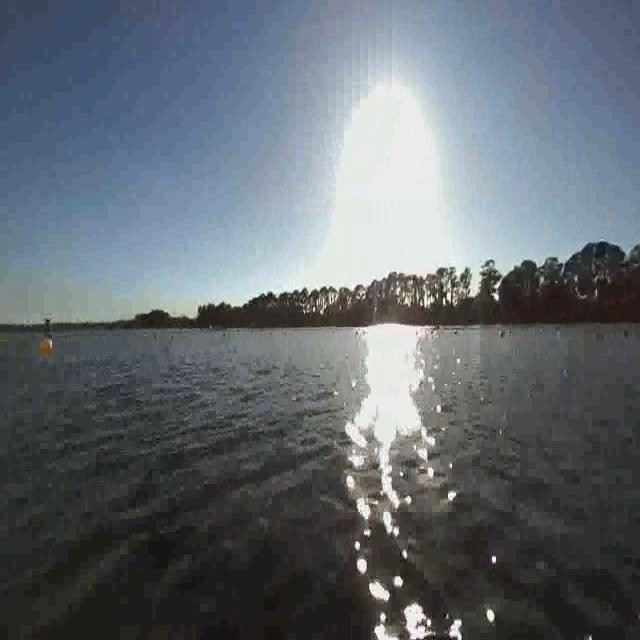yellow-buoy: (37, 338, 51, 359)
